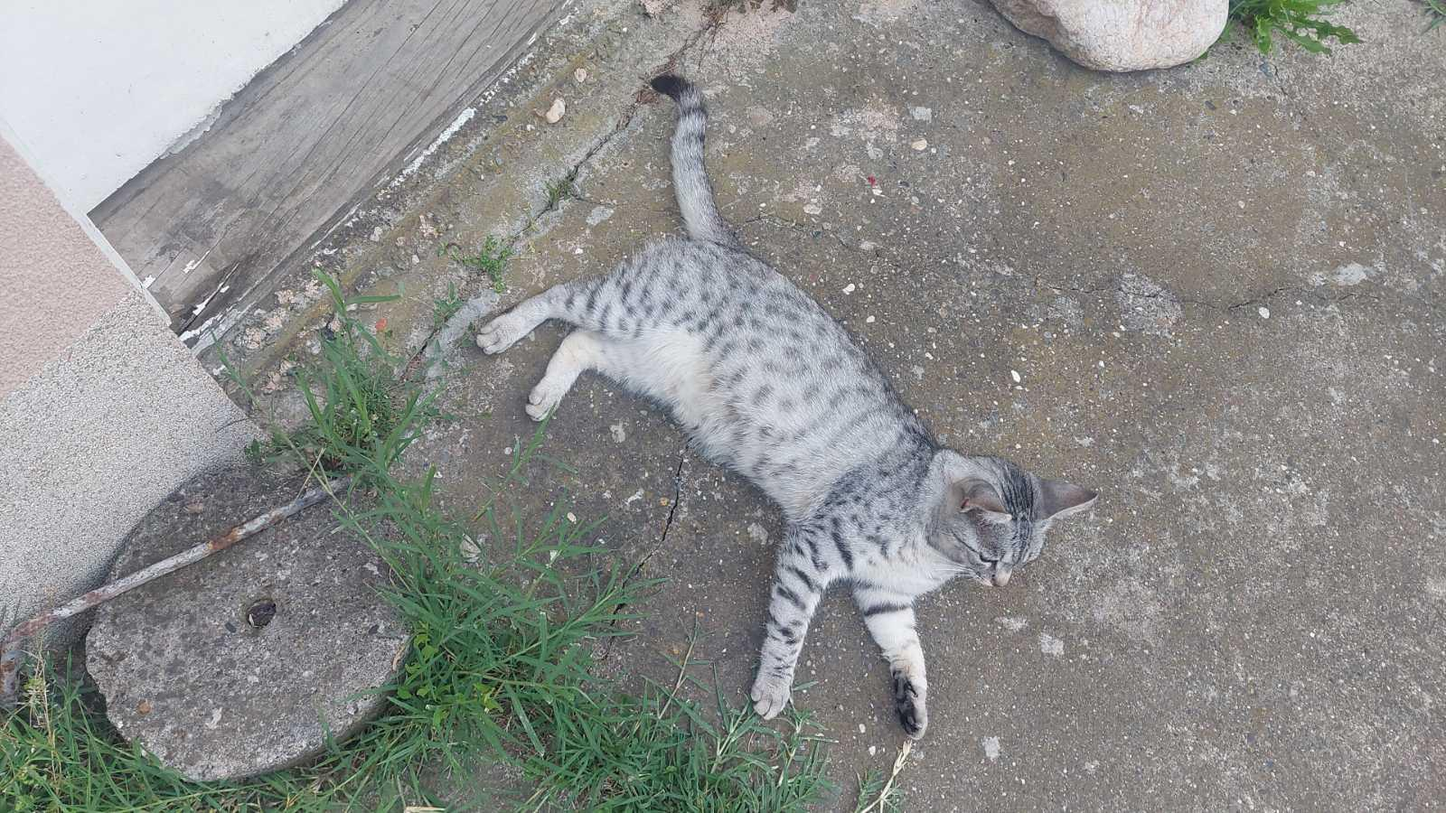macka: (477, 71, 1099, 737)
